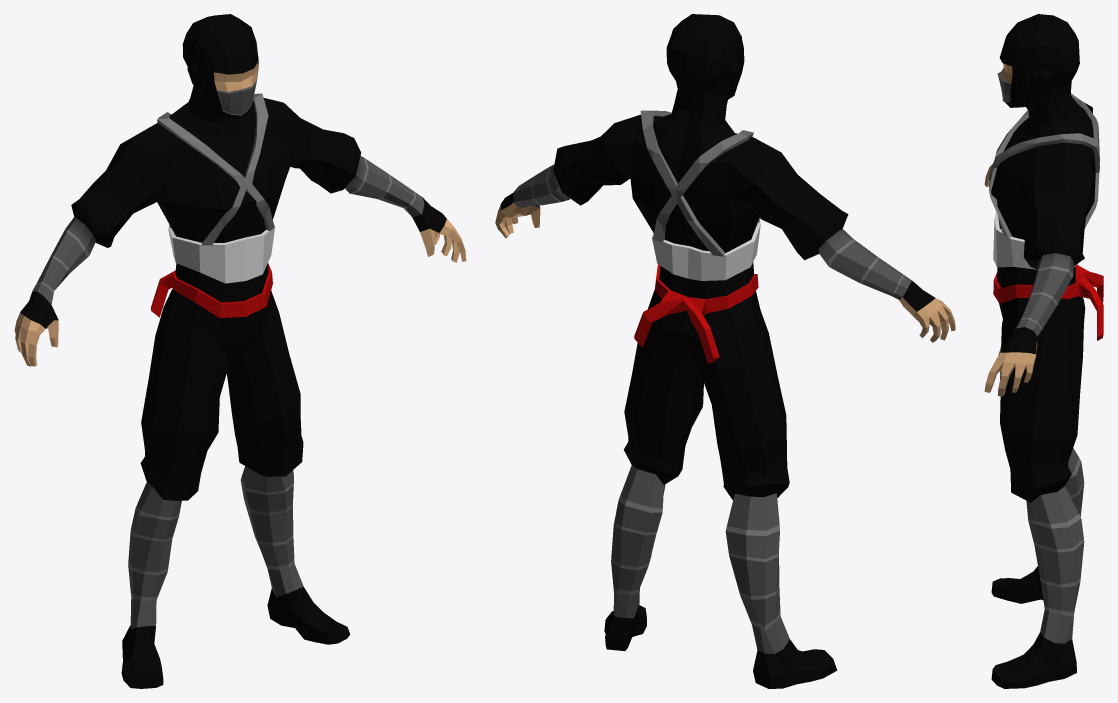
Rendered from ninja.obj.
The picture shows the model from 3 angles, left to right: view 1: azimuth 30°, elevation 25°; view 2: azimuth 150°, elevation 25°; view 3: azimuth 270°, elevation 25°; orthographic projection. The views are drawn at different scales.
Parts seen in each view (by area): view 1: NInja; view 2: NInja; view 3: NInja.
Boxes of the visible parts, left/top/right/bottom form: NInja: left=14, top=14, right=466, bottom=688; NInja: left=495, top=14, right=955, bottom=688; NInja: left=984, top=14, right=1103, bottom=688.
Size of the model in its own units: 3.87 by 5.34 by 0.9297.
